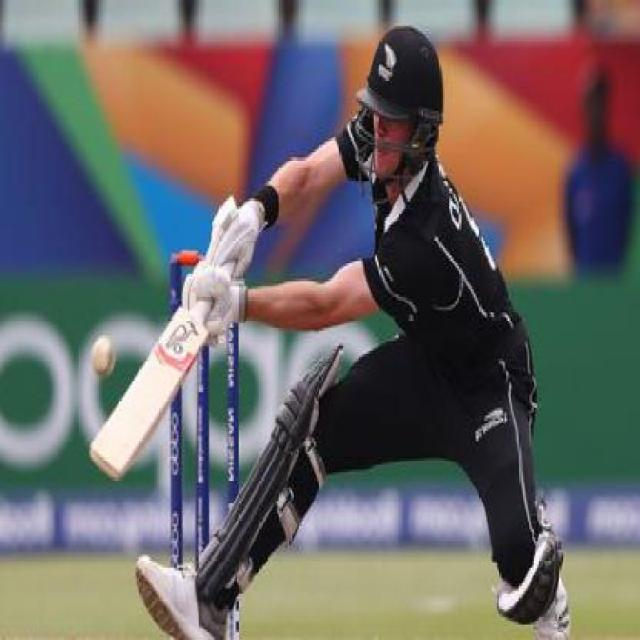ball: (64, 322, 149, 397)
